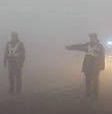person: (64, 33, 106, 100), (4, 31, 26, 95)
